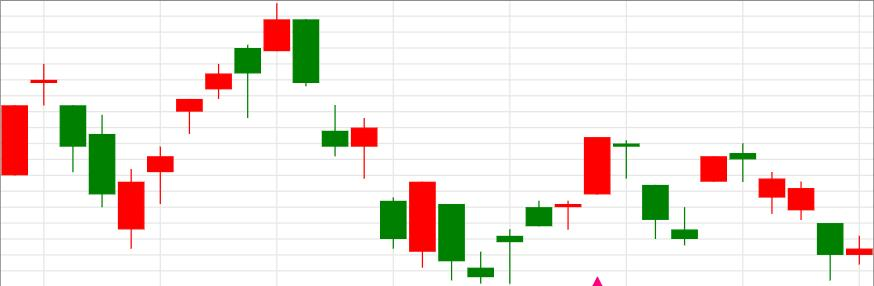hanging_man_fall: (117, 44, 261, 249)
